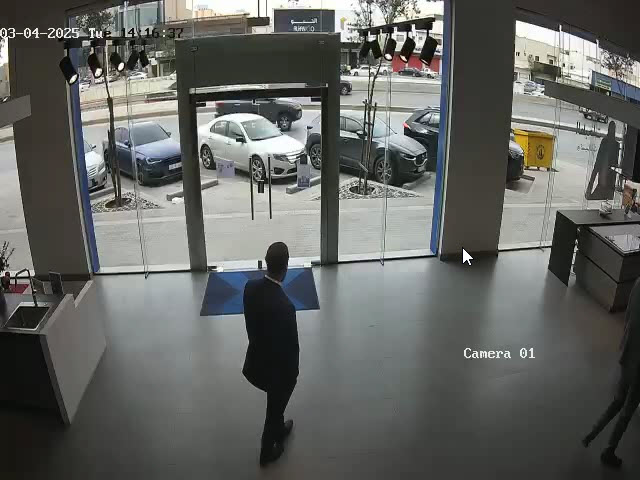male: (241, 241, 301, 466), (581, 275, 640, 468)
